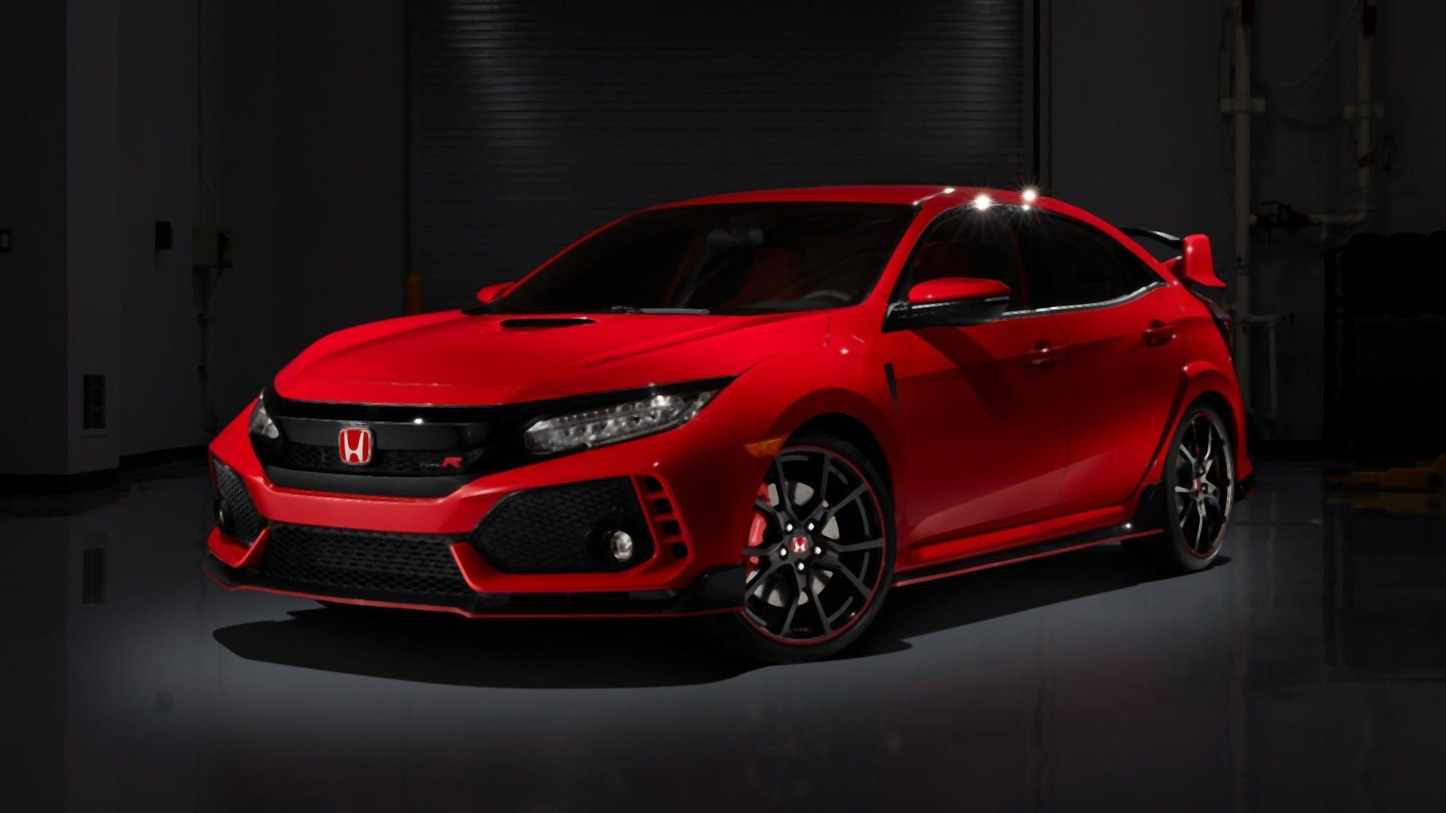Car hood: (271, 308, 829, 409)
Fender - -F-L-: (702, 261, 905, 476)
Fender - -R-L-: (1121, 276, 1259, 451)
Front bumper: (202, 417, 777, 617)
Headlight - -L-: (520, 375, 738, 451)
Headlight - -R-: (247, 388, 282, 444)
Passenger-s door - -F-L-: (859, 178, 1085, 588)
Passenger-s door - -R-L-: (990, 175, 1188, 559)
Side bumper - -L-: (888, 489, 1154, 631)
Side mirror - -L-: (884, 277, 1011, 330)
